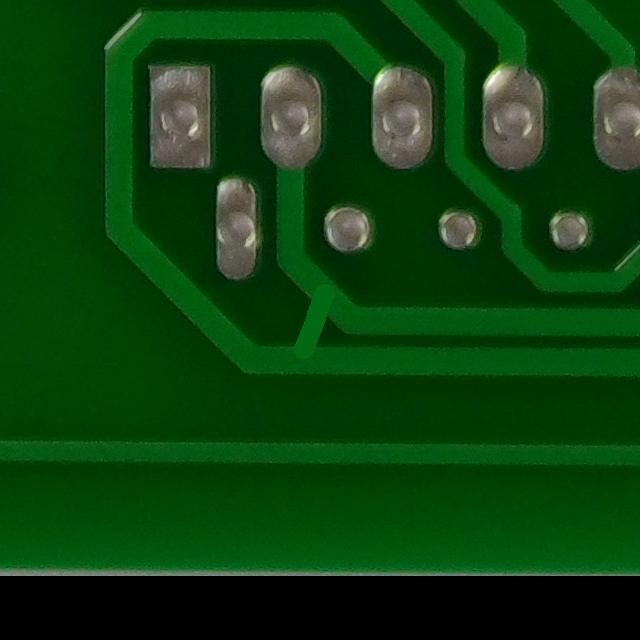short: (263, 261, 378, 380)
